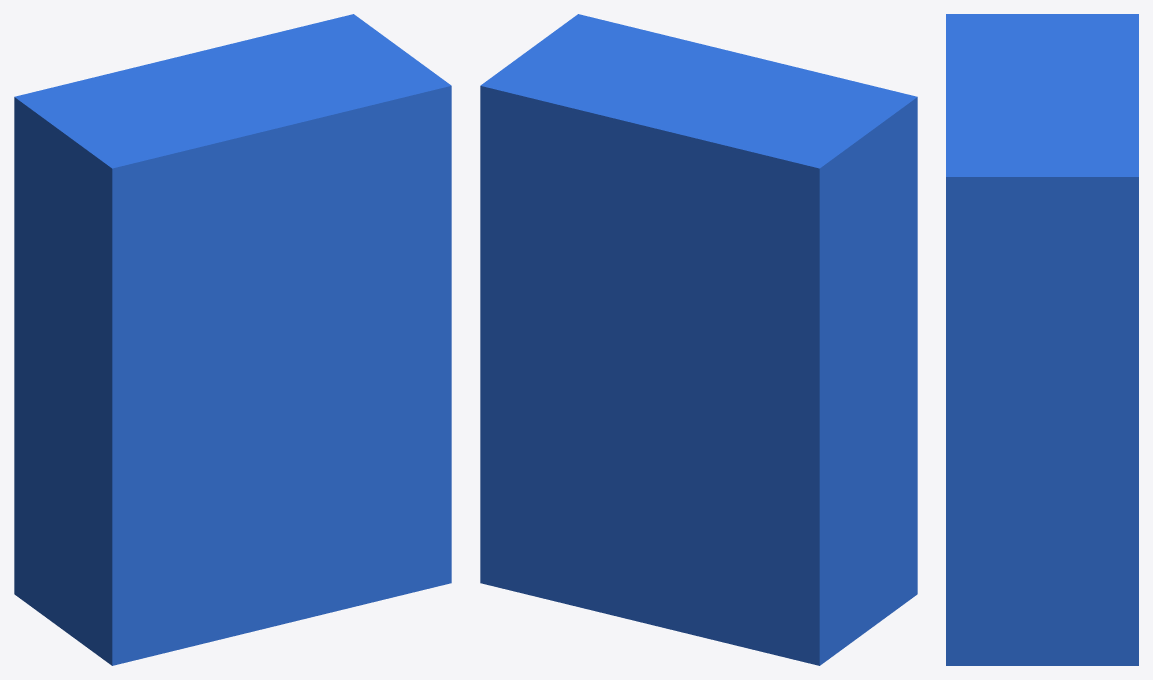
The model's file is torso.glb.
3 renders of one model, left to right at view 1: azimuth 30°, elevation 25°; view 2: azimuth 150°, elevation 25°; view 3: azimuth 270°, elevation 25°, orthographic.
Visible parts, largest first — view 1: TorsoMesh; view 2: TorsoMesh; view 3: TorsoMesh.
Boxes of the visible parts, box(x1,y1,x2,y2) form: TorsoMesh: box(14, 14, 451, 665); TorsoMesh: box(480, 14, 917, 665); TorsoMesh: box(946, 14, 1138, 665).
Bounding box in the file's own units: 0.5 × 0.7 × 0.25.
